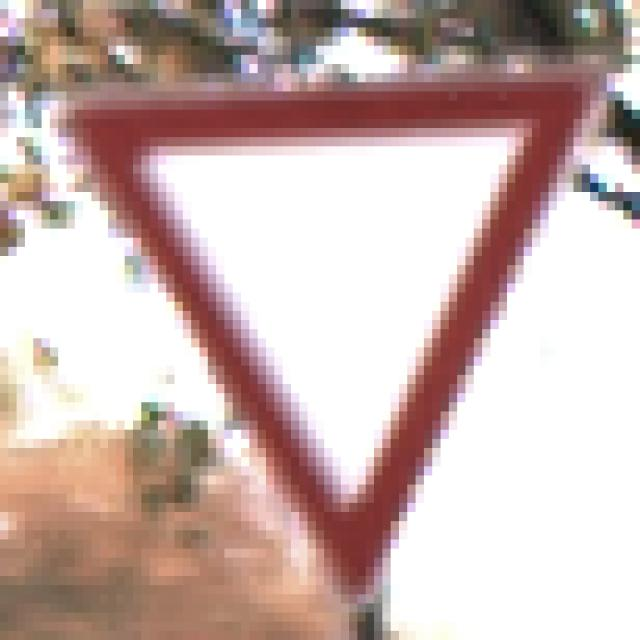Give Way: (59, 56, 591, 586)
